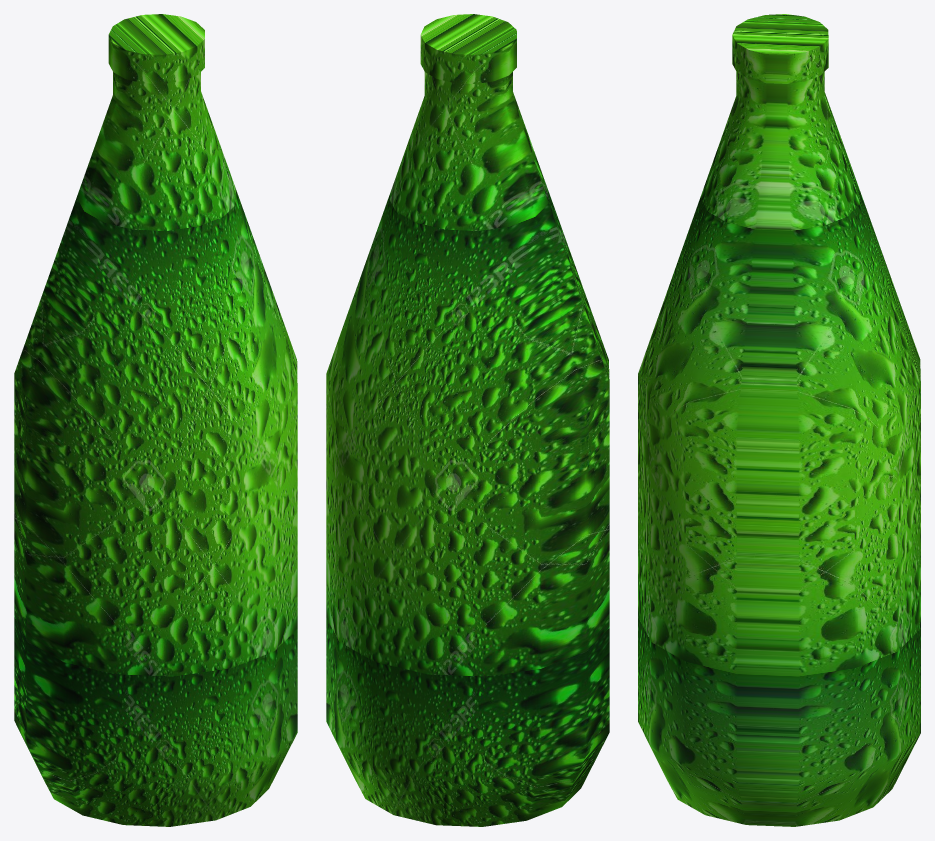
Rendered from BottleGlass.FBX.
3 views of the same model, side by side, from view 1: azimuth 30°, elevation 25°; view 2: azimuth 150°, elevation 25°; view 3: azimuth 270°, elevation 25° (orthographic).
Parts seen in each view (by area): view 1: 9; view 2: 9; view 3: 9.
Part boxes in pixels (left/top/right/bottom): 9: left=14, top=14, right=297, bottom=826; 9: left=326, top=14, right=609, bottom=826; 9: left=638, top=14, right=920, bottom=826.
Bounding box in the file's own units: 9.56 × 27.63 × 9.51.
1 material, 1 textured.
